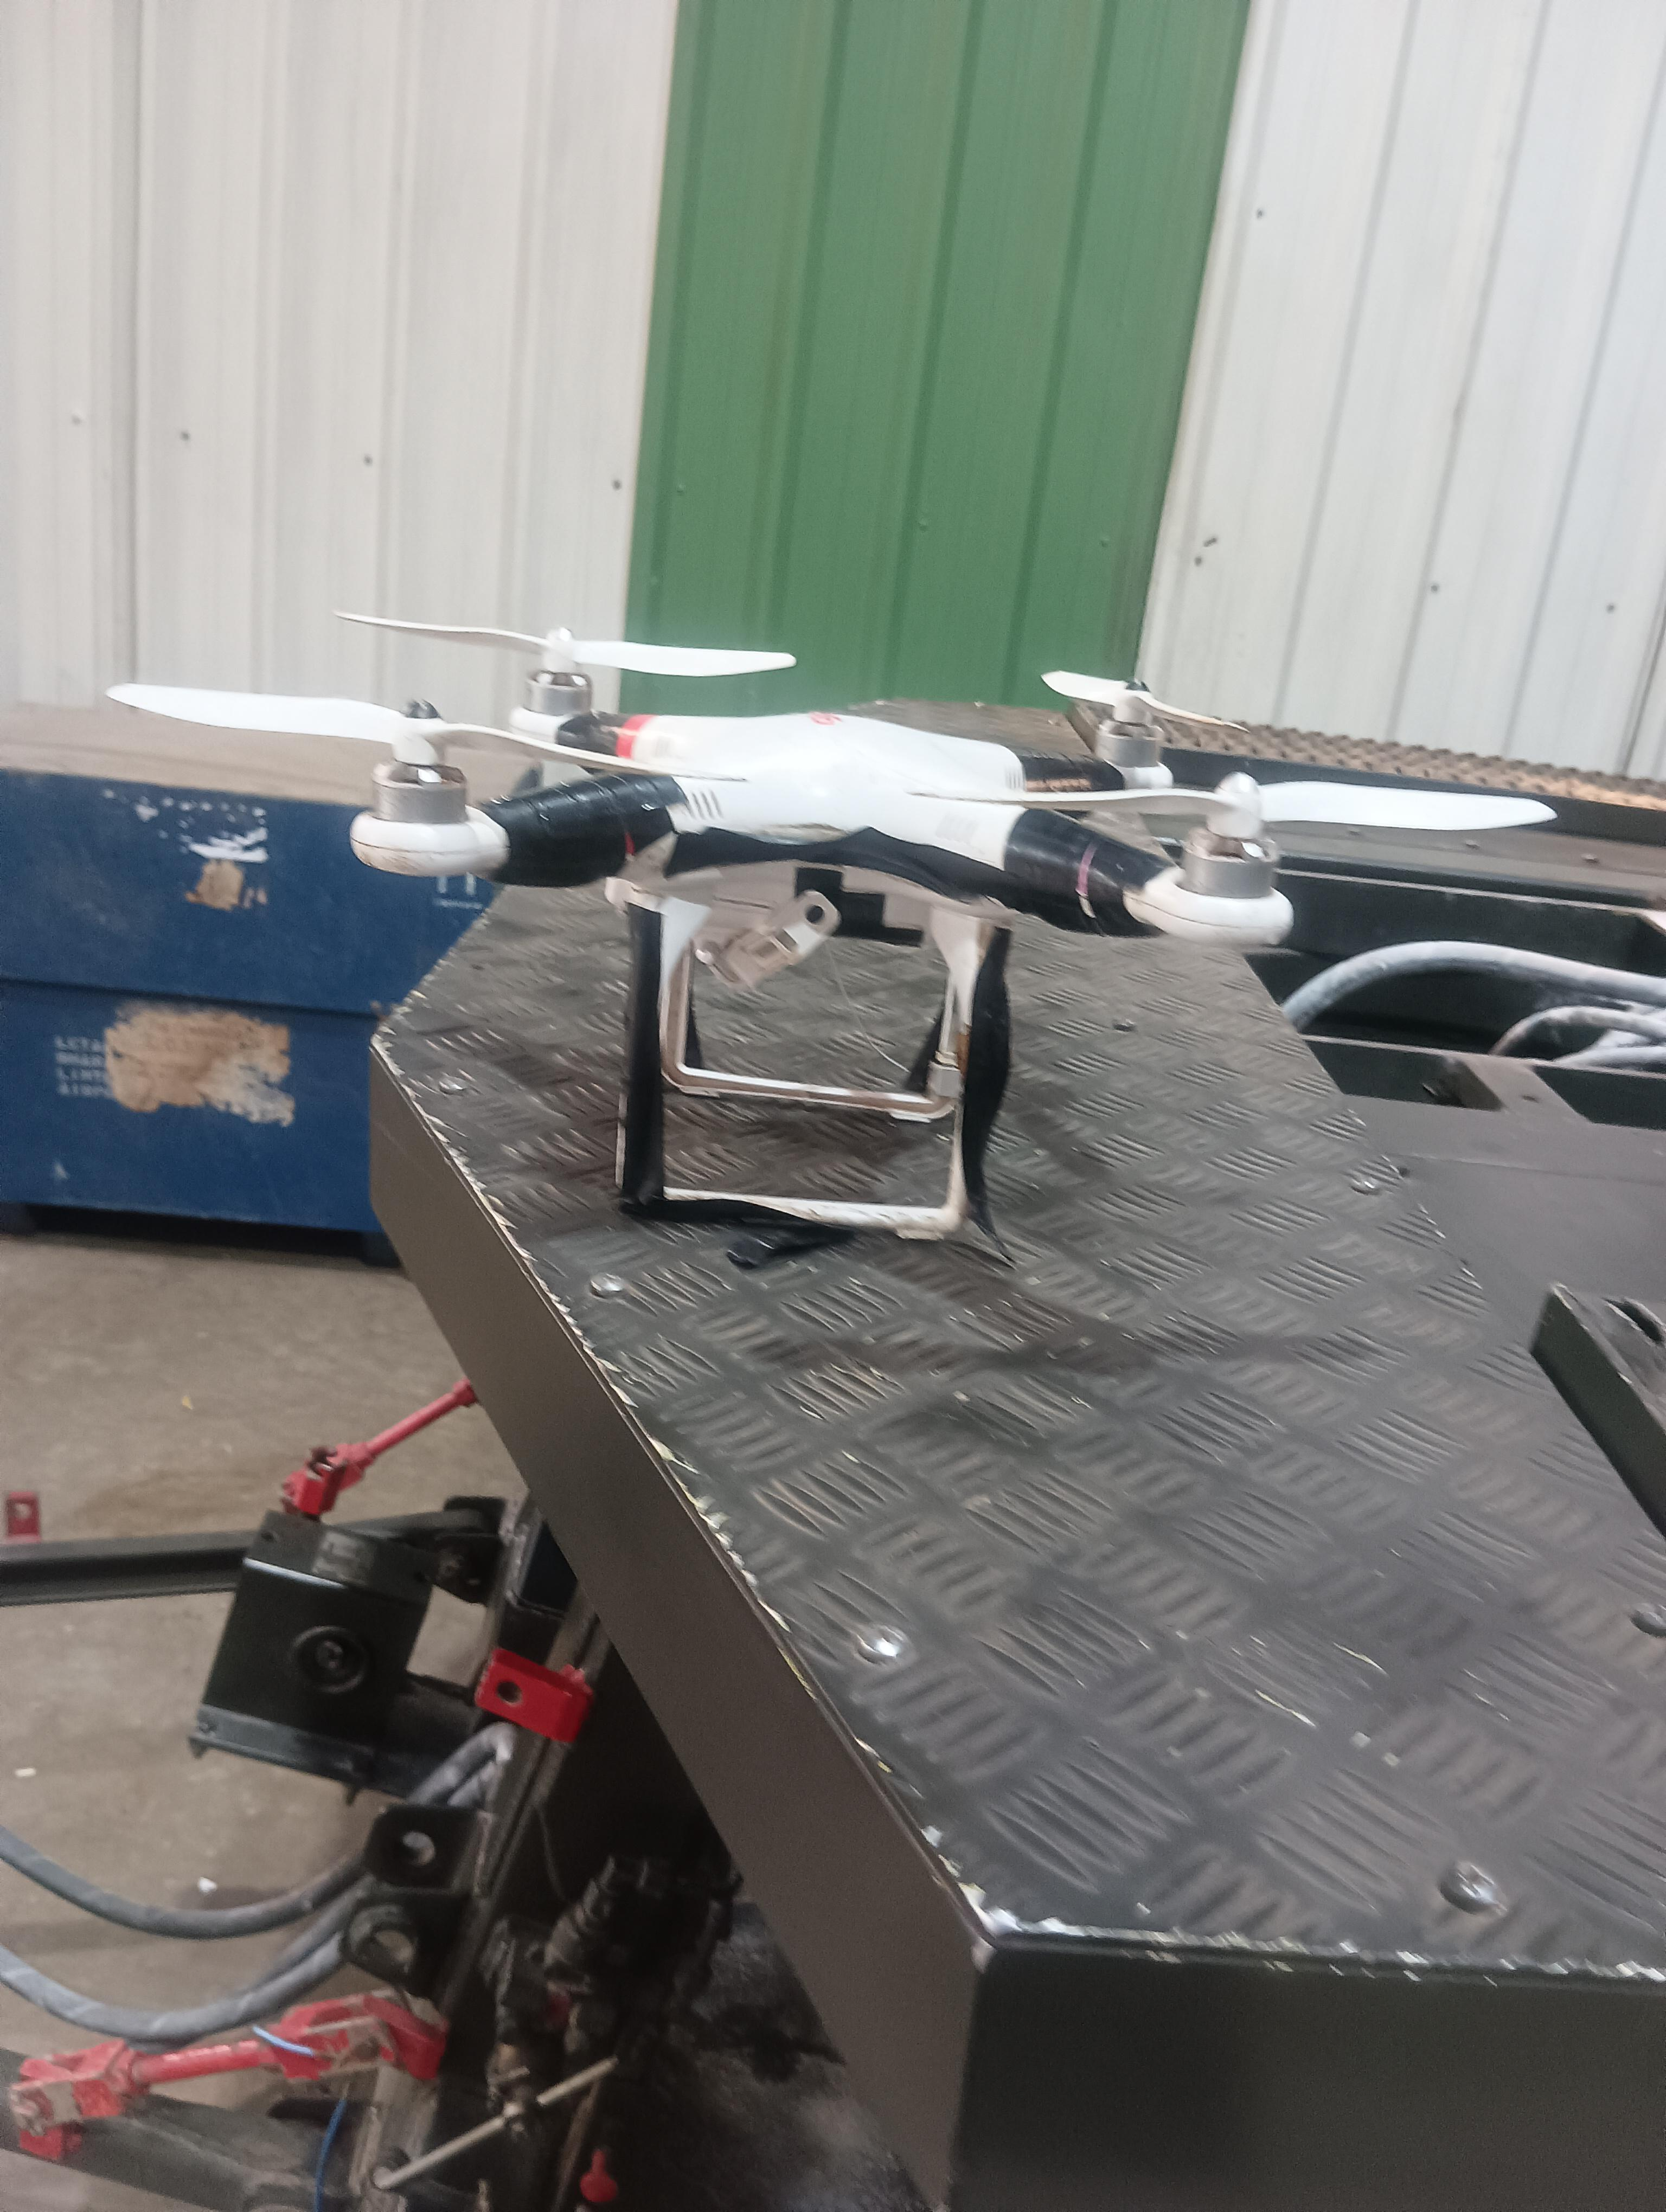drone: (77, 560, 1572, 1266)
